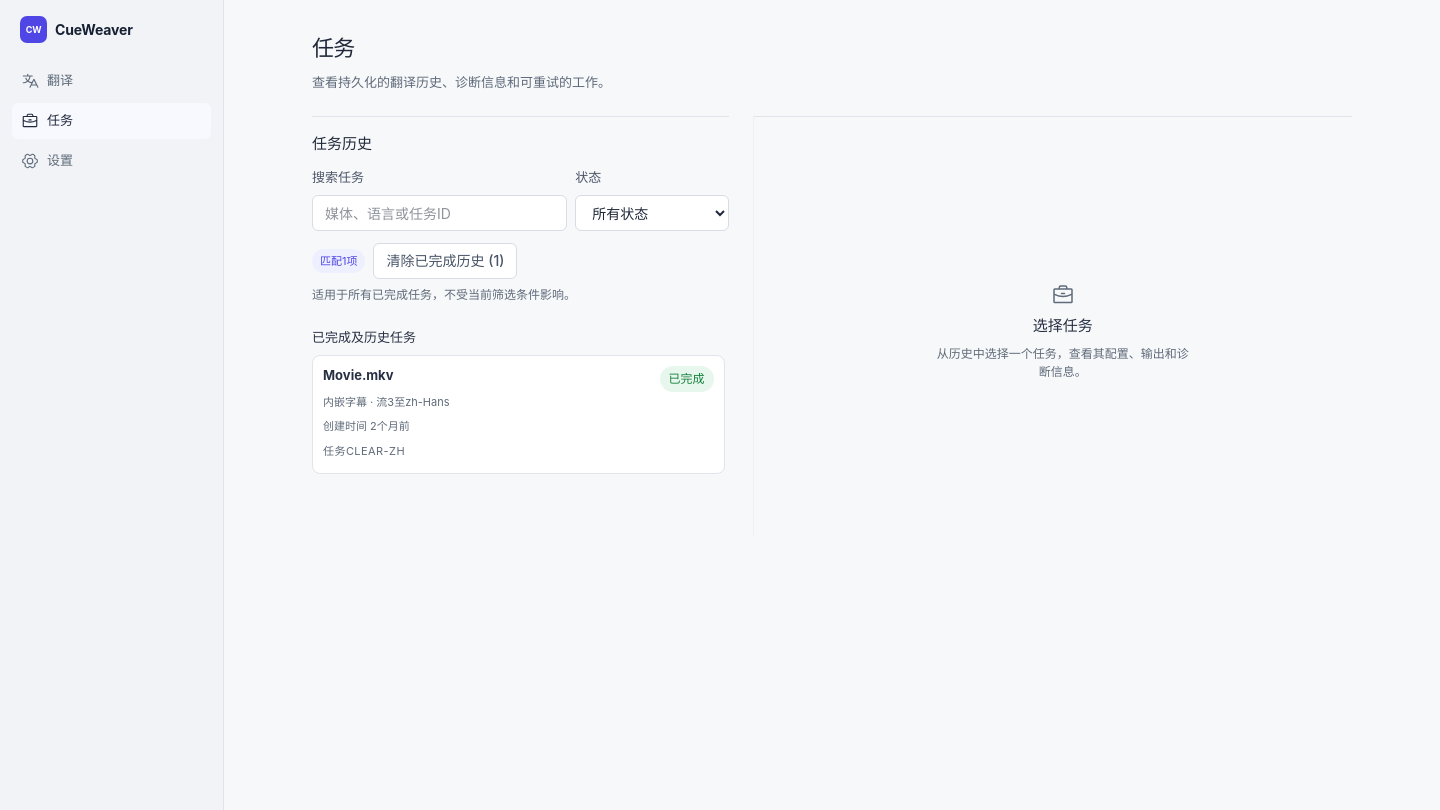
Test: product shell › localizes successful completed Job cleanup in Simplified Chinese
Click the button "清除已完成历史 (1)" at (445, 261), box [374,243,517,279]
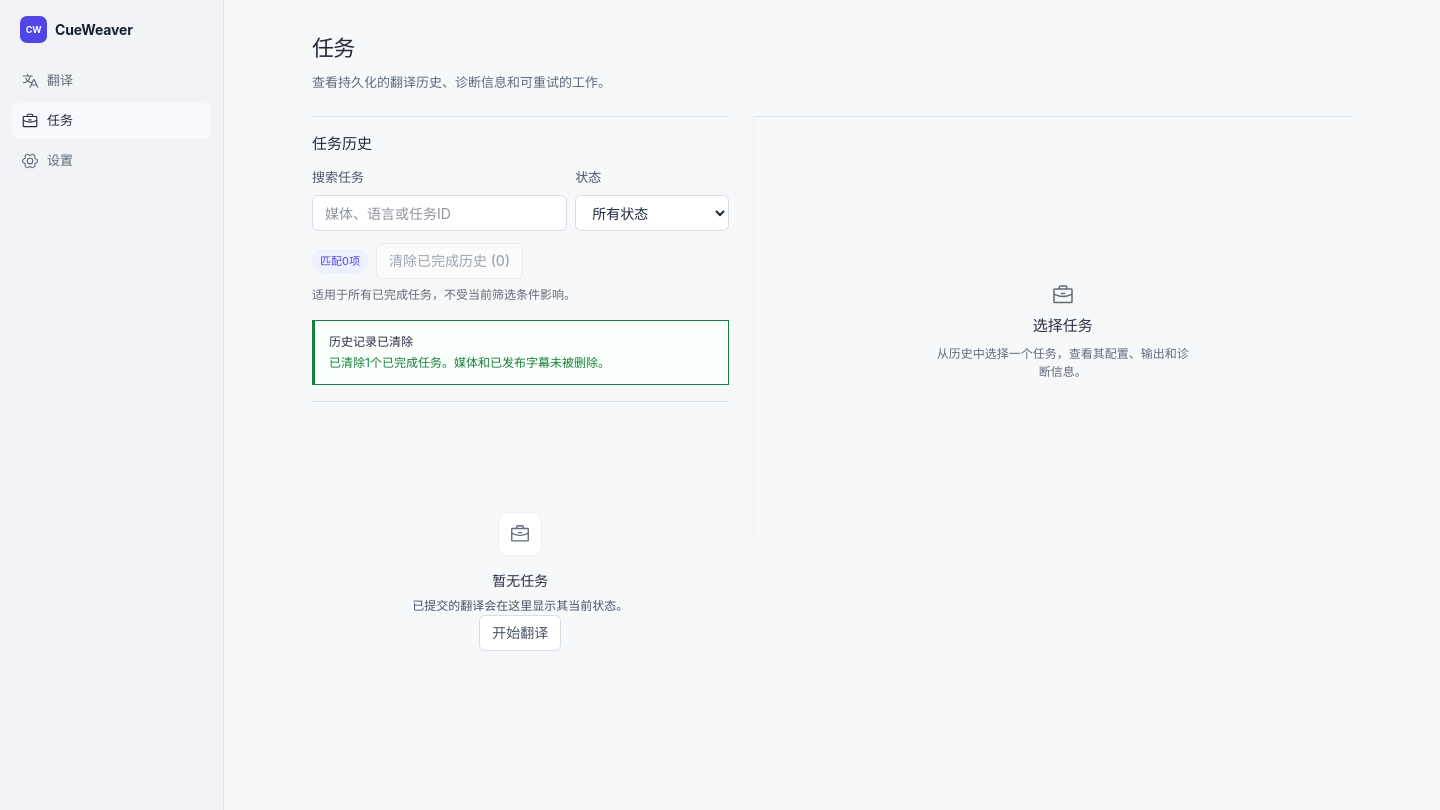
Expected: the text "历史记录已清除" is shown, [329,334,413,349]
